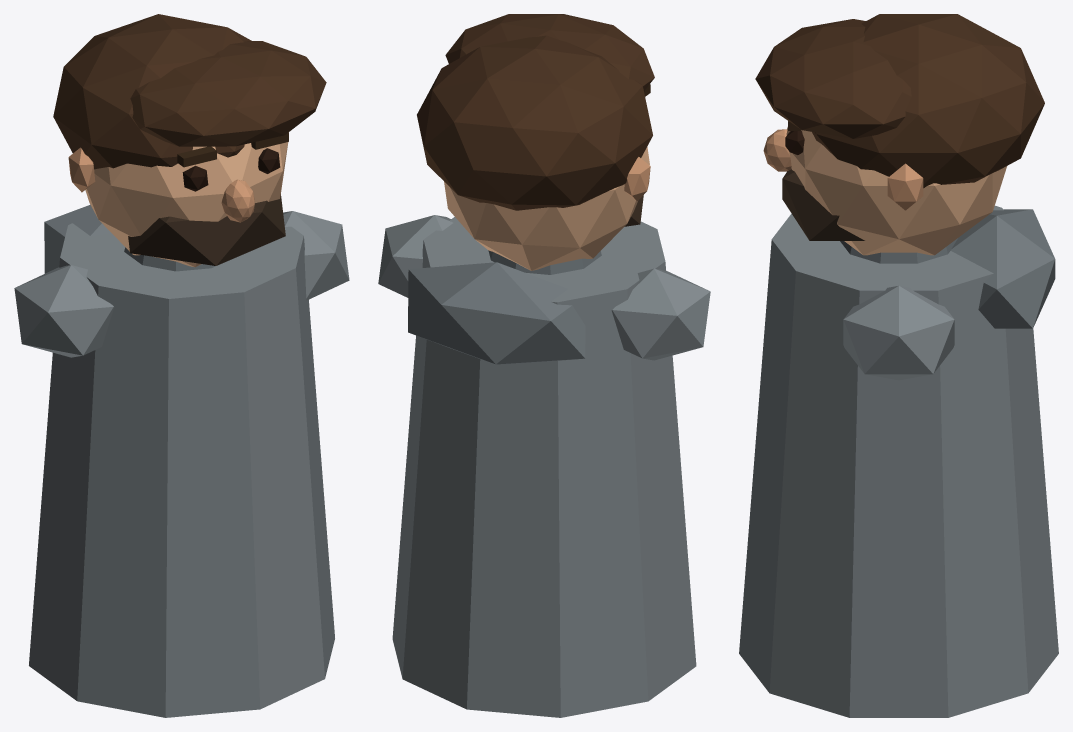
Rendered from insan_e3s_govde.glb.
3 renders of one model, left to right at view 1: azimuth 30°, elevation 25°; view 2: azimuth 150°, elevation 25°; view 3: azimuth 270°, elevation 25°, orthographic. The views are drawn at different scales.
Parts seen in each view (by area): view 1: Cone; view 2: Cone; view 3: Cone.
Part boxes in pixels (box(x1,y1,x2,y2)): Cone: box(14, 14, 349, 717); Cone: box(378, 14, 710, 717); Cone: box(739, 14, 1058, 717).
Size of the model in its own units: 0.1158 by 0.2126 by 0.098.
